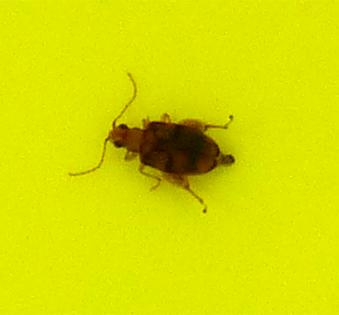Coleoptera: (100, 100, 239, 215)
